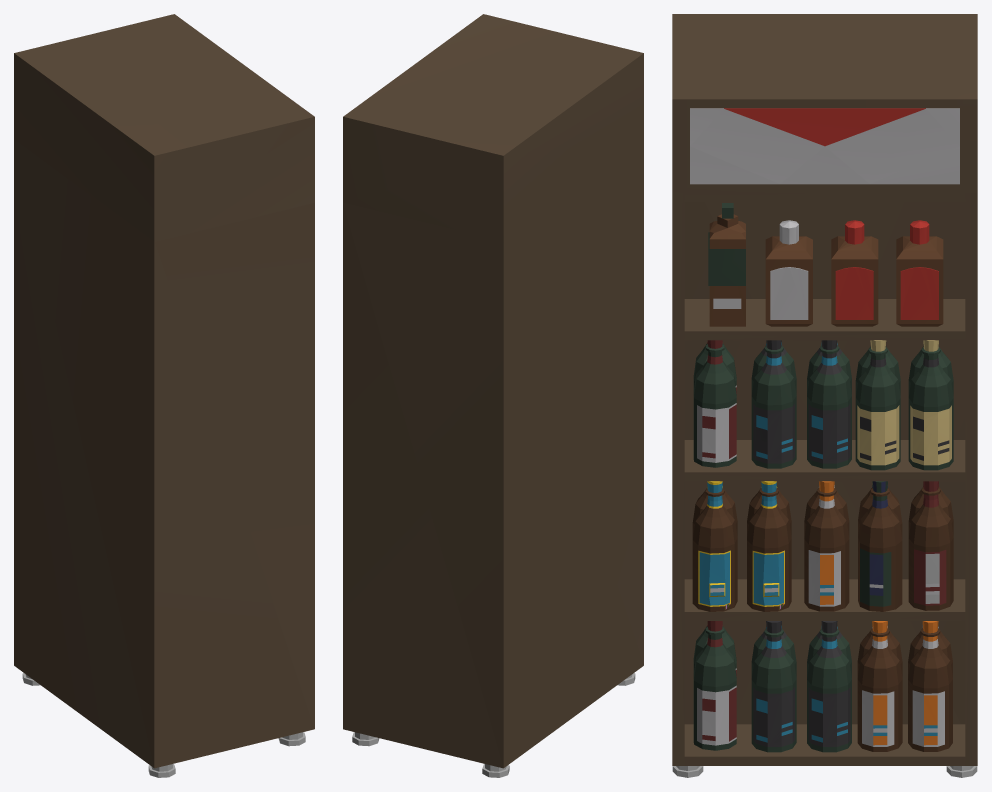
The model's file is SM_shopShelf_04.glb.
The picture shows the model from 3 angles, left to right: view 1: azimuth 30°, elevation 25°; view 2: azimuth 150°, elevation 25°; view 3: azimuth 270°, elevation 25°; orthographic projection. The views are drawn at different scales.
Parts seen in each view (by area): view 1: SM_shopShelf_04; view 2: SM_shopShelf_04; view 3: SM_shopShelf_04.
Part boxes in pixels (x1,y1,x2,y2): SM_shopShelf_04: (14,14,314,777); SM_shopShelf_04: (343,14,643,777); SM_shopShelf_04: (672,14,977,777).
Size of the model in its own units: 0.6642 by 2.46 by 1.
Materials: 1 (1 with a texture image).
